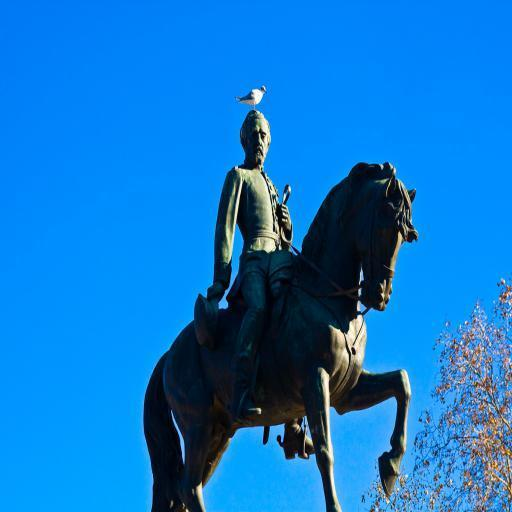horse: (144, 162, 418, 510)
